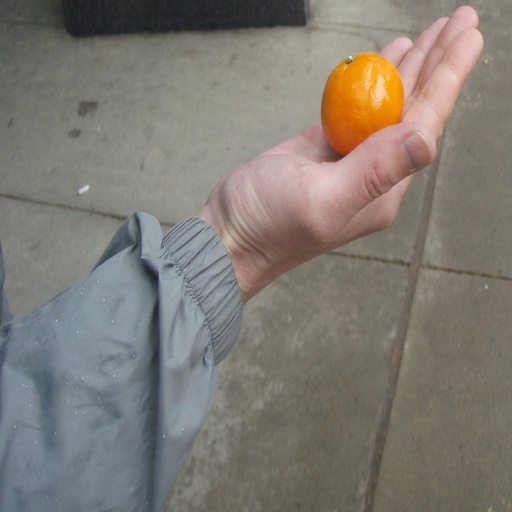hand: (205, 3, 483, 283)
